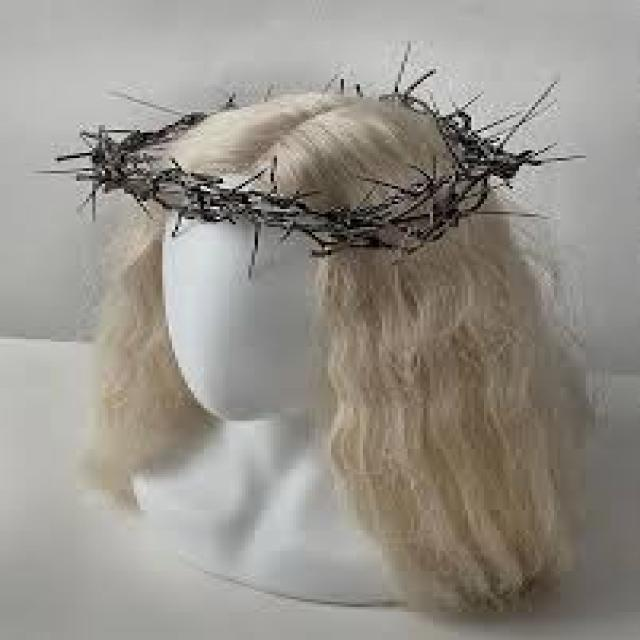crown: (45, 76, 599, 240)
